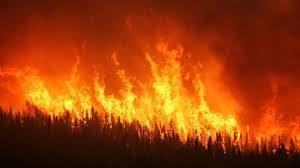fire: (1, 39, 300, 144)
